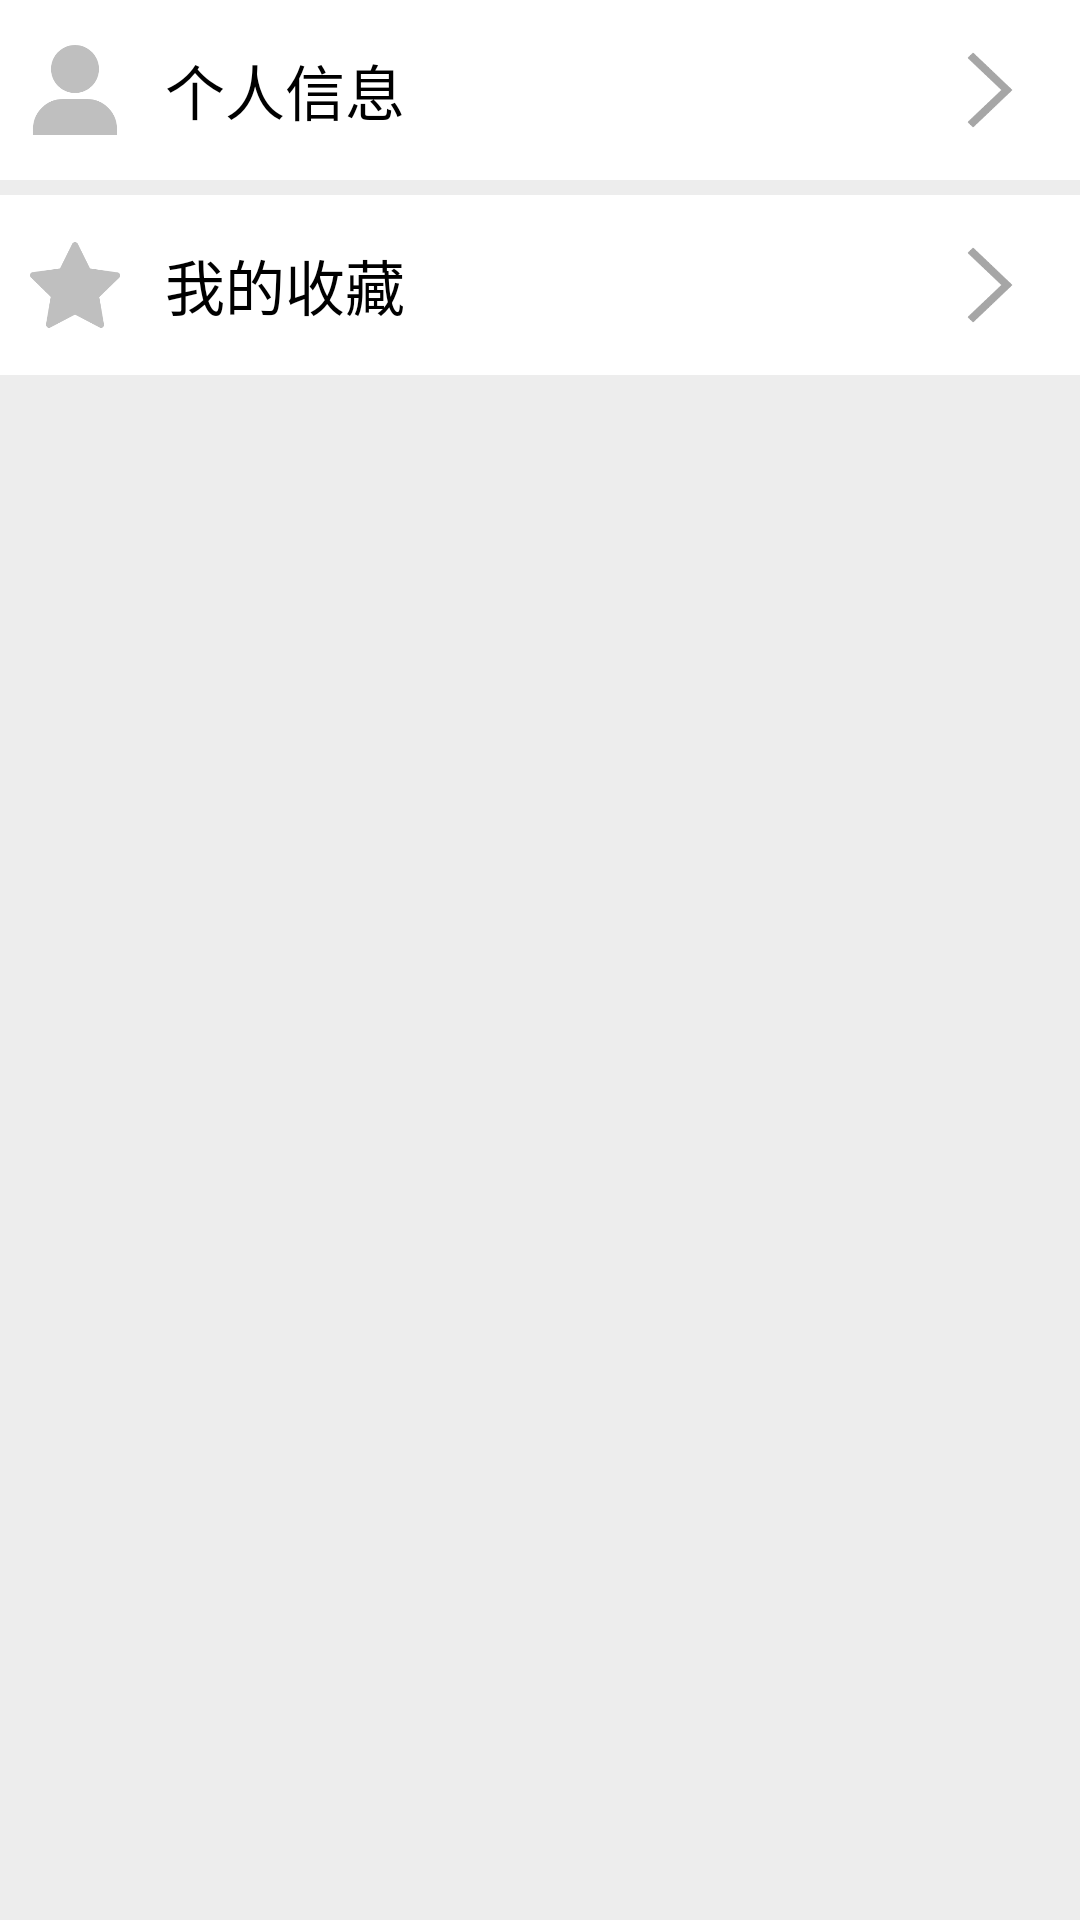

Icon click points for this 1080px x 1920px phone screenshot, format (x,y):
collect: (75,285)
right: (990,90), (990,285)
user: (75,90)
